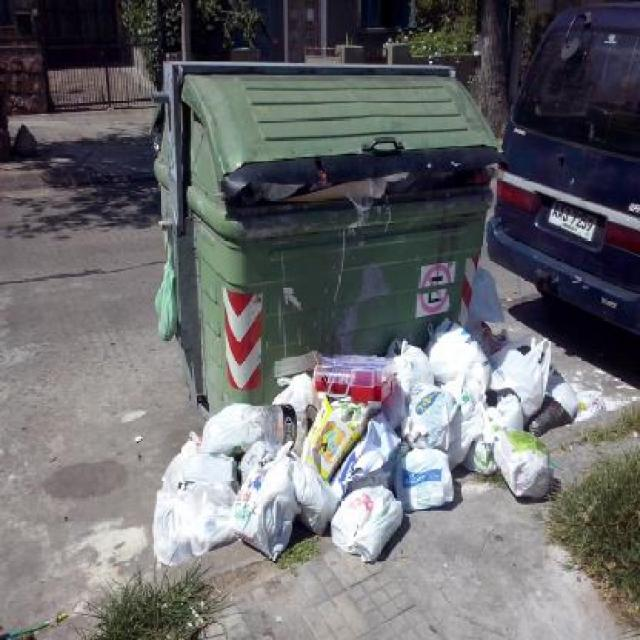garbage: (145, 326, 562, 554)
